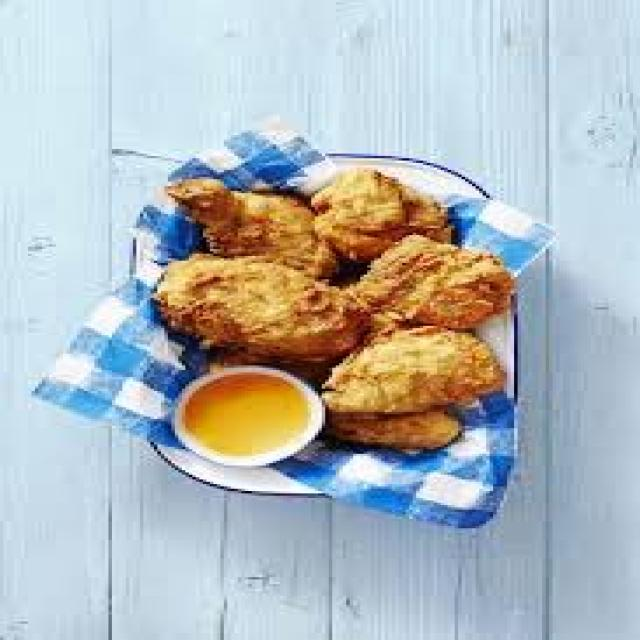Frango: (140, 160, 510, 466)
